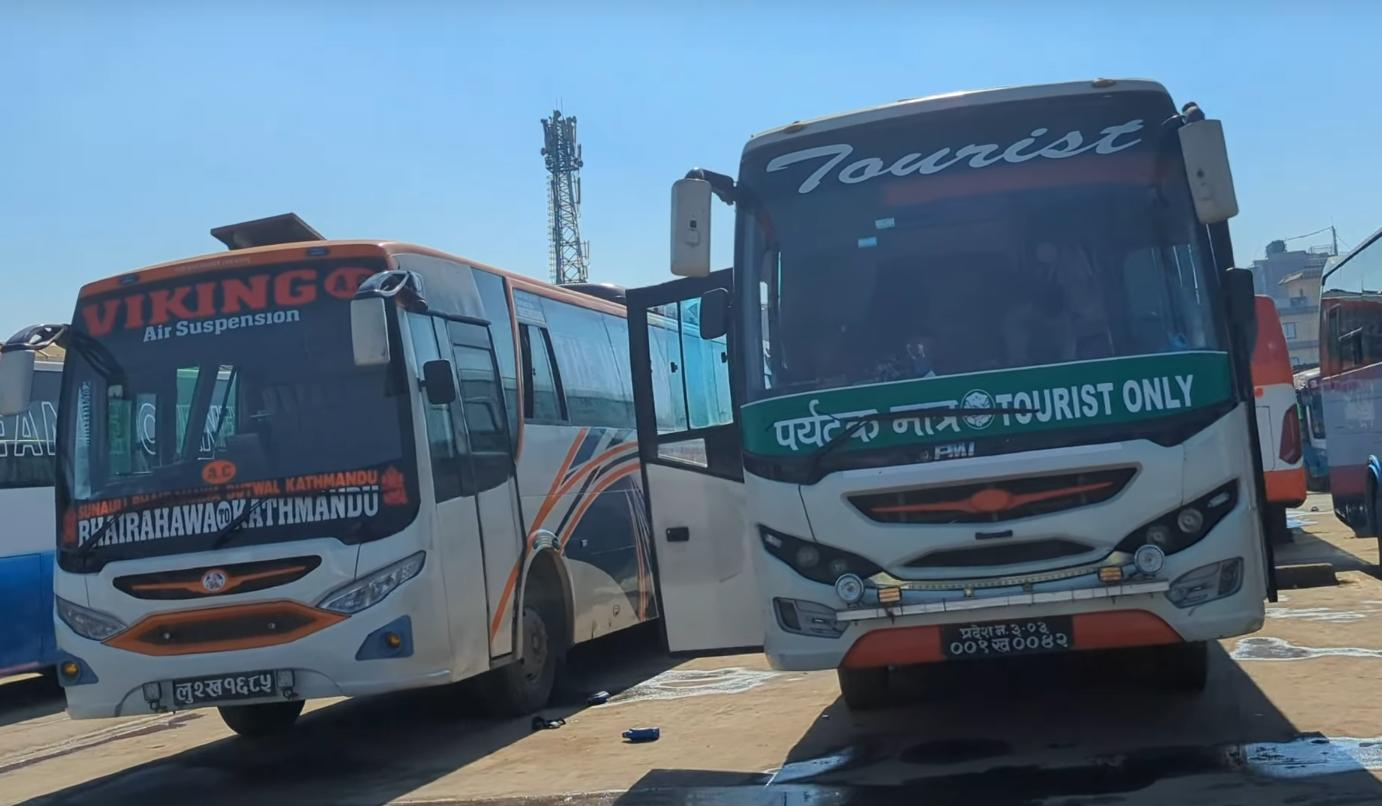bus: (722, 84, 1272, 672), (44, 216, 726, 660)
